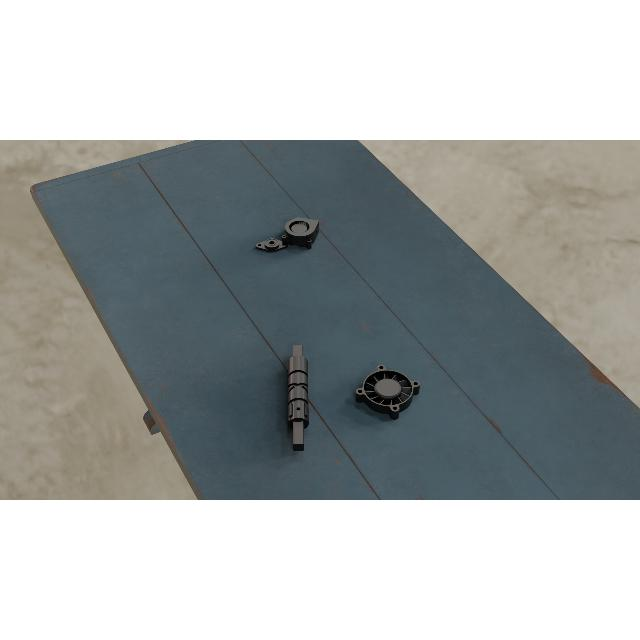Pieza1: (288, 342, 308, 454)
Pieza2: (256, 237, 288, 253)
Pieza3: (280, 216, 320, 250)
Pieza4: (353, 362, 422, 422)
